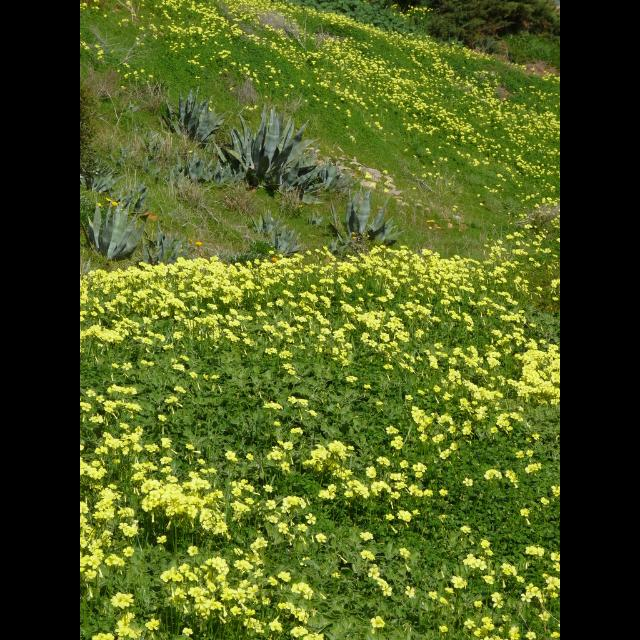Flower: (80, 210, 560, 638), (80, 0, 560, 208), (109, 593, 125, 607)
